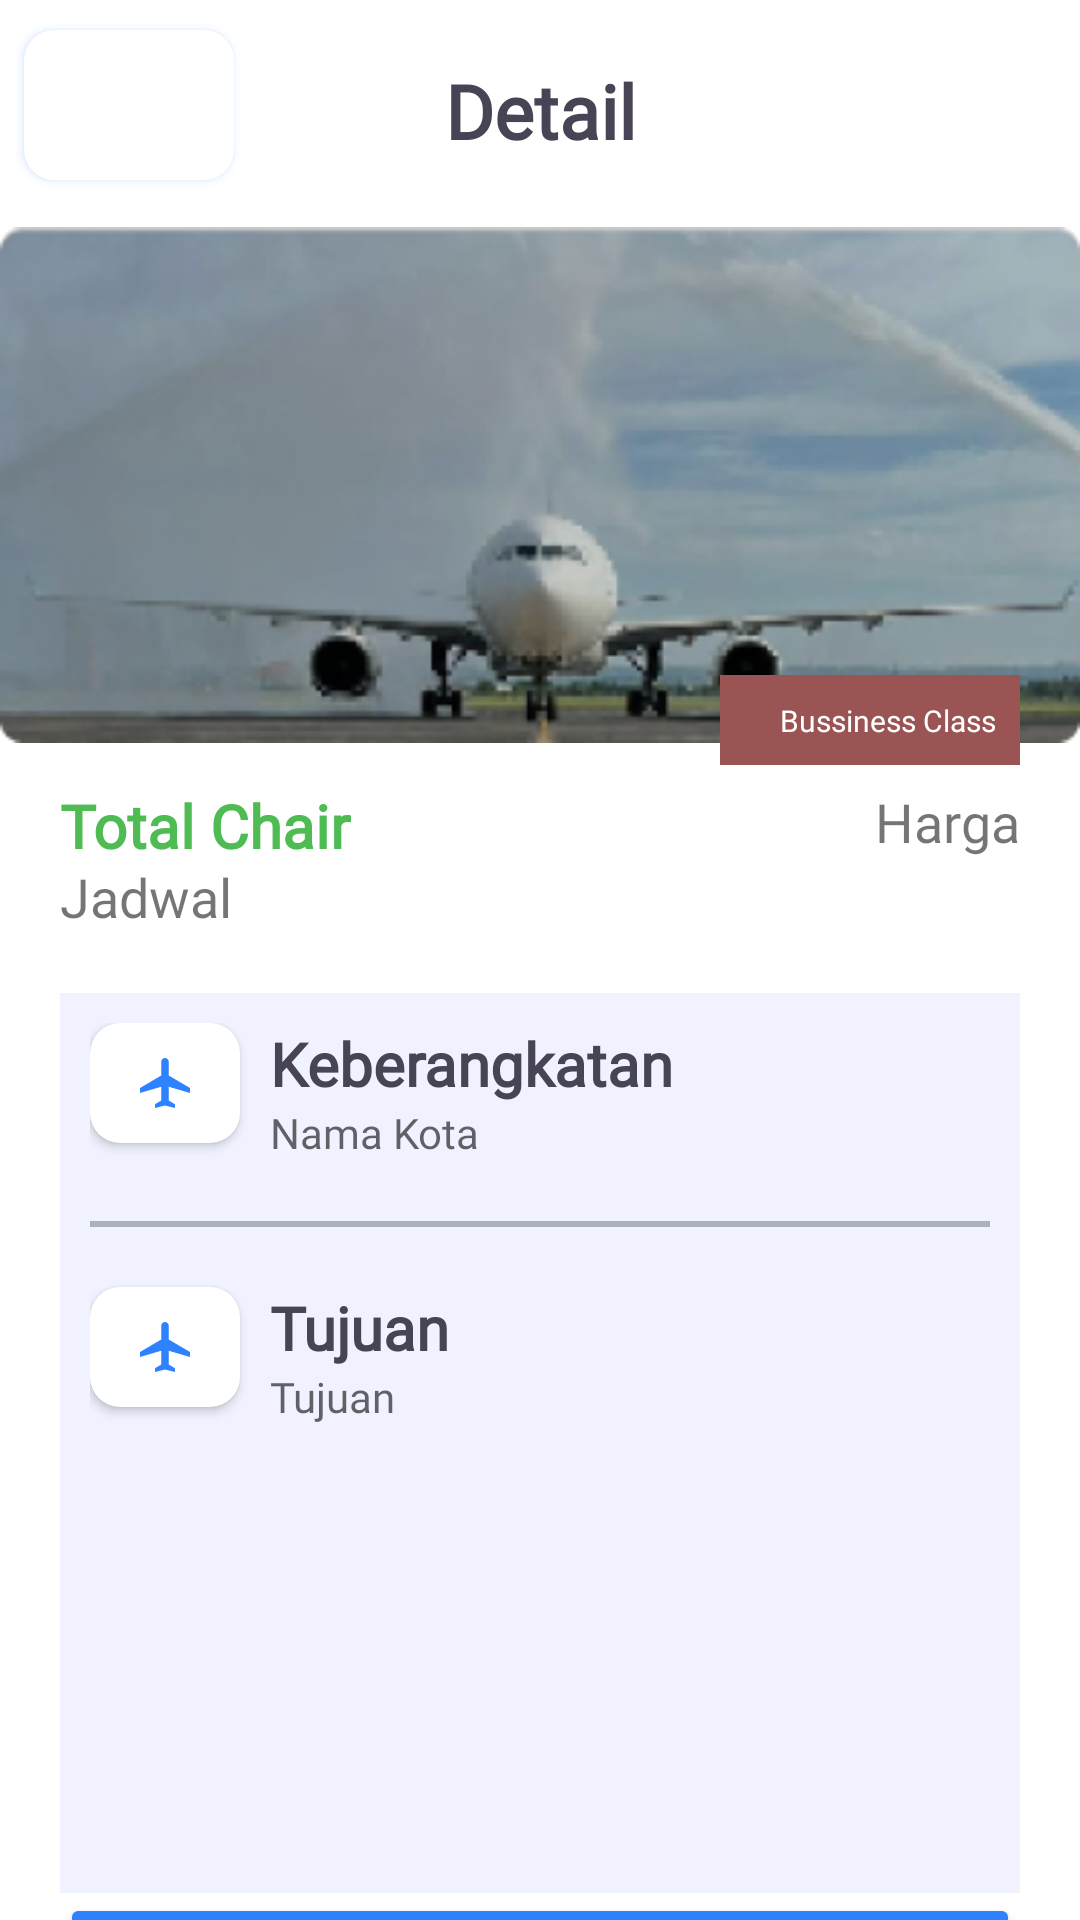

Where icons sit on this 1080*1920 app screen, as (x1, y1, x2, y2):
penerabngan: (90, 1023, 240, 1143), (90, 1287, 240, 1407)
